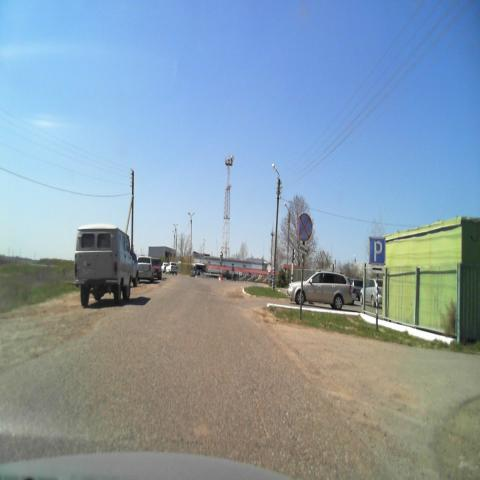8_3_1: (368, 265, 384, 275)
